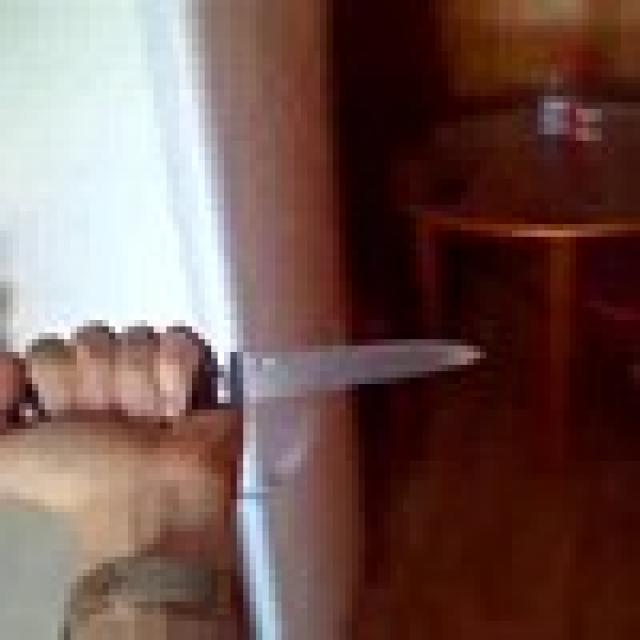Knife: (19, 339, 480, 410)
